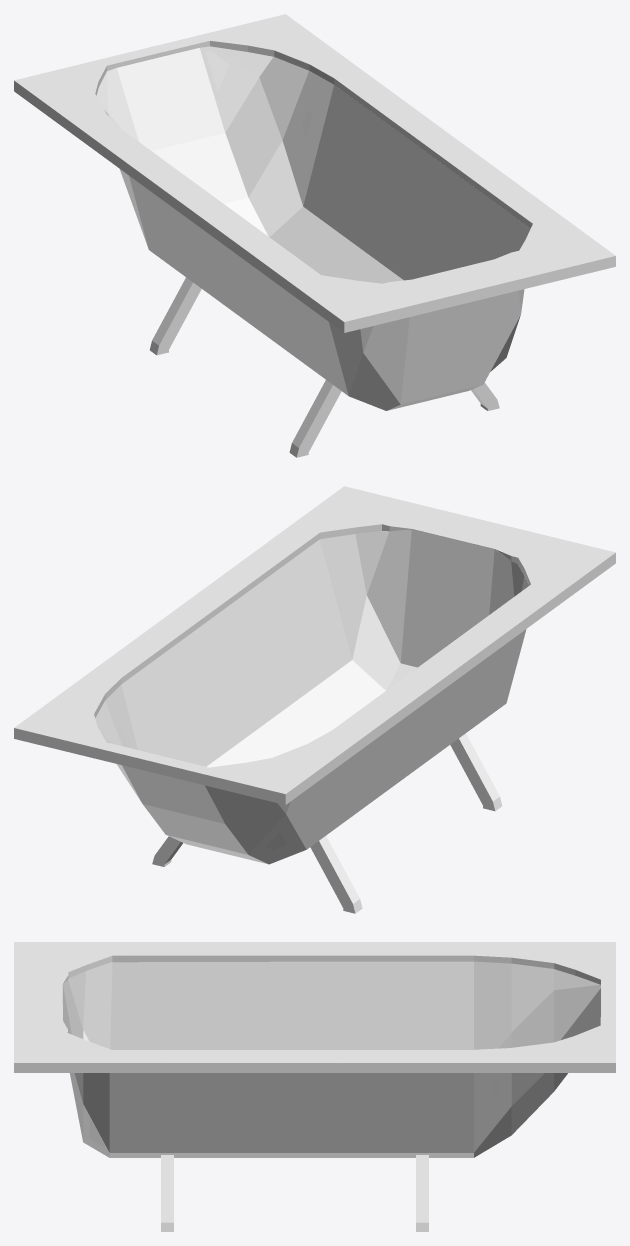
The model's file is bathtublowpoly.glb.
3 renders of one model, top to bottom at view 1: azimuth 30°, elevation 25°; view 2: azimuth 150°, elevation 25°; view 3: azimuth 270°, elevation 25°, orthographic. The views are drawn at different scales.
Parts seen in each view (by area): view 1: Cube, Cube.001, Cube.002, Cube.003; view 2: Cube, Cube.001, Cube.002, Cube.003; view 3: Cube, Cube.001, Cube.004, Cube.005.
Part boxes in pixels (<box>): Cube: <box>96,46,530,410</box>; Cube.001: <box>14,14,615,332</box>; Cube.002: <box>289,380,341,457</box>; Cube.003: <box>149,277,201,355</box>; Cube: <box>95,529,528,864</box>; Cube.001: <box>14,486,615,804</box>; Cube.002: <box>450,733,502,811</box>; Cube.003: <box>310,836,362,913</box>; Cube: <box>62,961,600,1157</box>; Cube.001: <box>14,942,615,1072</box>; Cube.004: <box>416,1155,428,1231</box>; Cube.005: <box>161,1155,173,1231</box>.
Size of the model in its own units: 1.46 by 1.04 by 3.08.
Materials: 2 (2 with a texture image).
